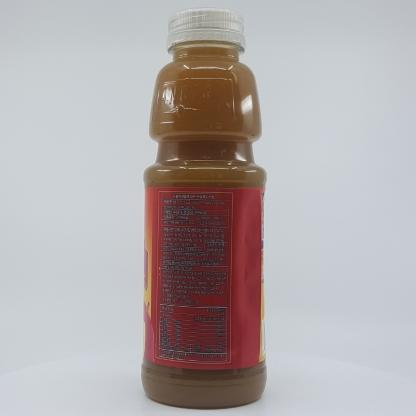-----449ML: (141, 7, 267, 410)
